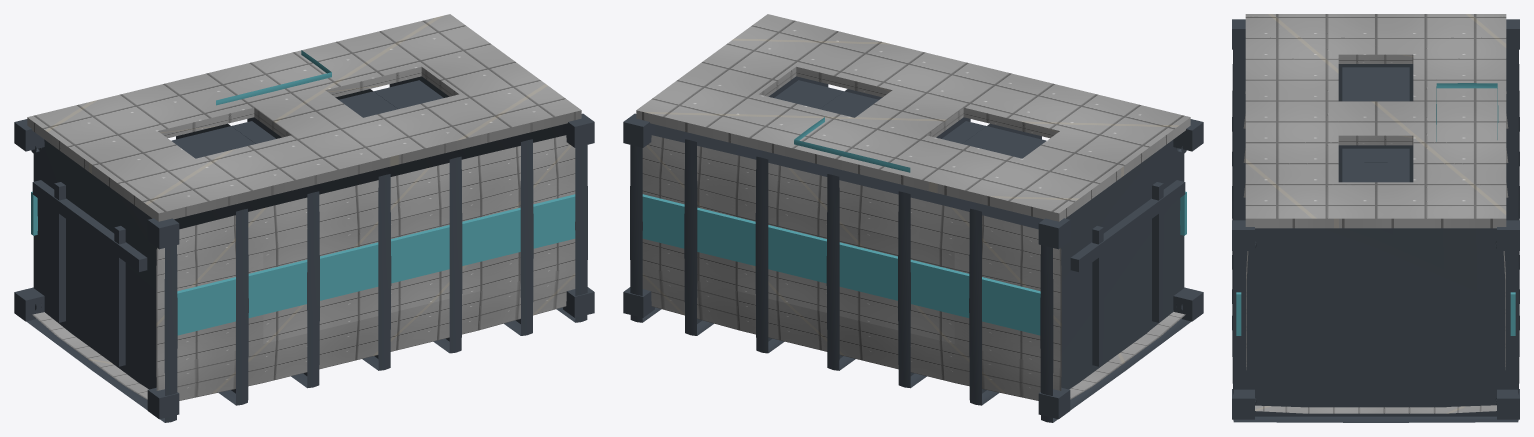
The model's file is pod_cargo_container_v3.glb.
3 renders of one model, left to right at view 1: azimuth 30°, elevation 25°; view 2: azimuth 150°, elevation 25°; view 3: azimuth 270°, elevation 25°, orthographic.
Parts seen in each view (by area): view 1: Cargo_Shell, pod_cargo_container_Material_Mechanical_Merged, Cargo_ID_Plate; view 2: Cargo_Shell, pod_cargo_container_Material_Mechanical_Merged, Cargo_ID_Plate; view 3: pod_cargo_container_Material_Mechanical_Merged, Cargo_Shell, Cargo_ID_Plate.
Boxes of the visible parts, x1=… form: Cargo_Shell: x1=27, y1=14, x2=581, y2=400; pod_cargo_container_Material_Mechanical_Merged: x1=14, y1=76, x2=594, y2=422; Cargo_ID_Plate: x1=31, y1=50, x2=575, y2=335; Cargo_Shell: x1=636, y1=14, x2=1190, y2=400; pod_cargo_container_Material_Mechanical_Merged: x1=623, y1=76, x2=1203, y2=422; Cargo_ID_Plate: x1=642, y1=117, x2=1186, y2=335; pod_cargo_container_Material_Mechanical_Merged: x1=1232, y1=19, x2=1519, y2=422; Cargo_Shell: x1=1243, y1=14, x2=1508, y2=413; Cargo_ID_Plate: x1=1236, y1=83, x2=1515, y2=335.
Size of the model in its own units: 5.21 by 2.42 by 3.
Materials: 3 (1 with a texture image).
